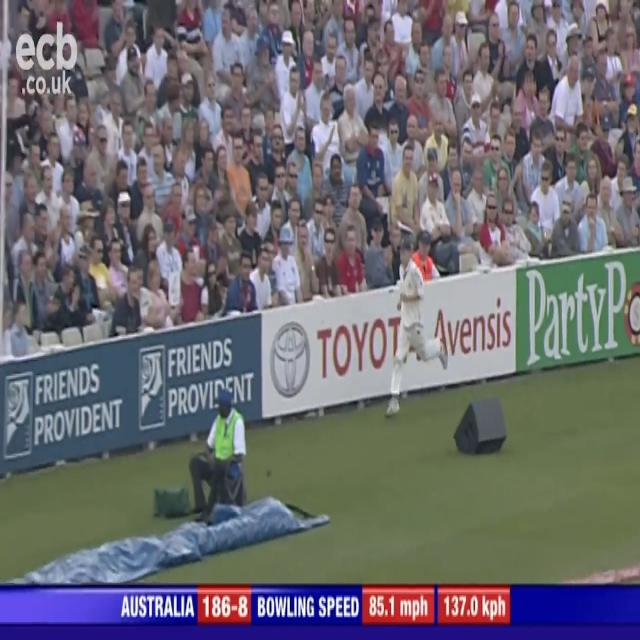ball: (264, 463, 274, 478)
